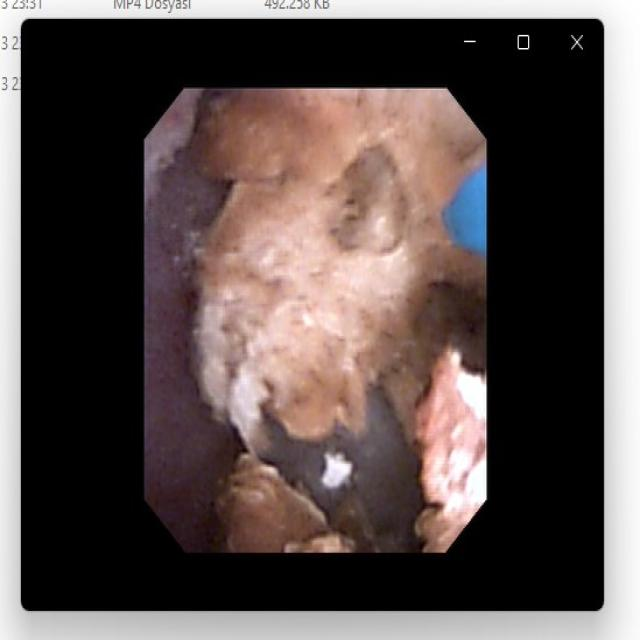fiber: (443, 173, 482, 251)
stone: (197, 97, 483, 549)
